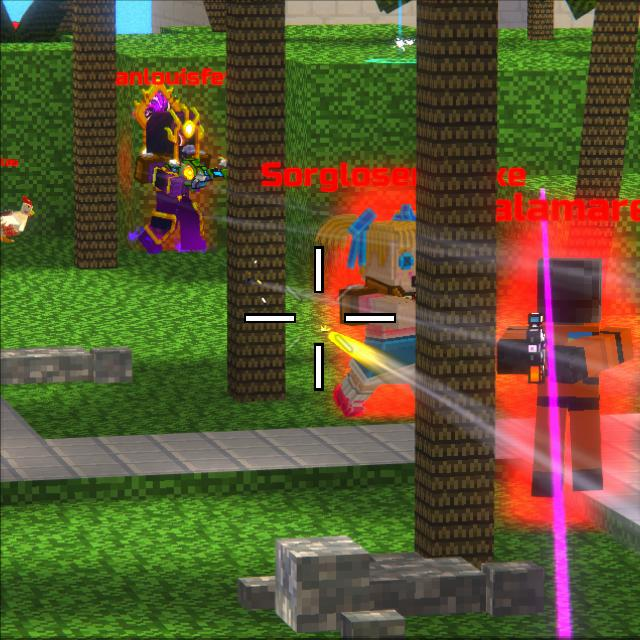Enemy: (497, 260, 636, 501), (331, 220, 414, 418), (132, 115, 219, 254)
